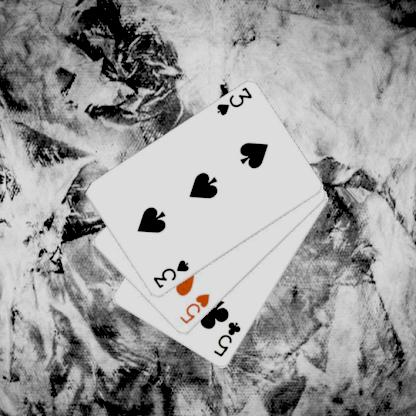3S: (214, 84, 253, 118), (150, 258, 190, 290)
5C: (211, 319, 243, 359)
5H: (177, 291, 211, 326)
